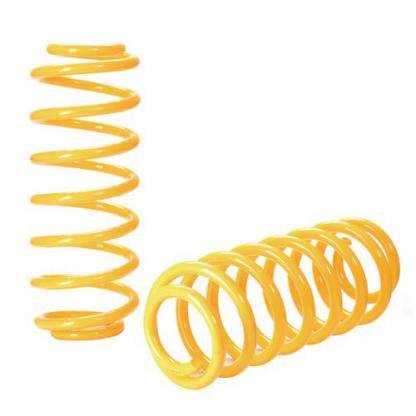FOD: (143, 216, 402, 392), (19, 40, 142, 342)
